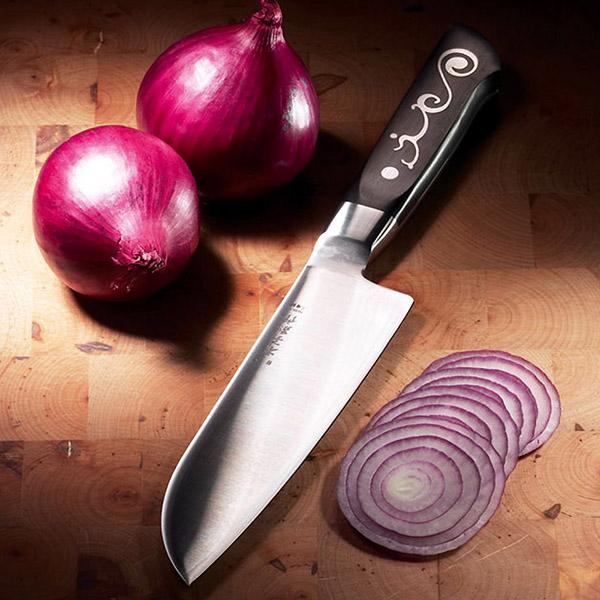knife: (130, 39, 531, 582)
